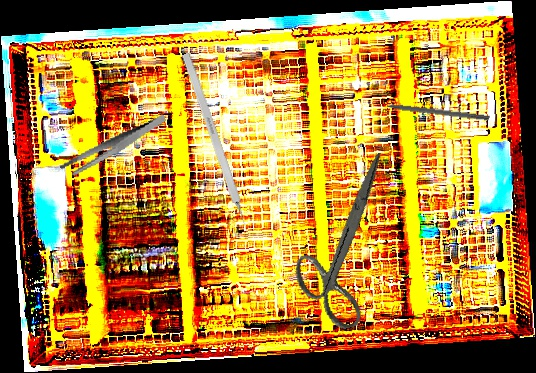Dressing Forceps: (53, 113, 174, 179)
Hook Surgical: (181, 52, 253, 237), (372, 99, 490, 122)
Iris Scissors: (271, 152, 421, 338)
